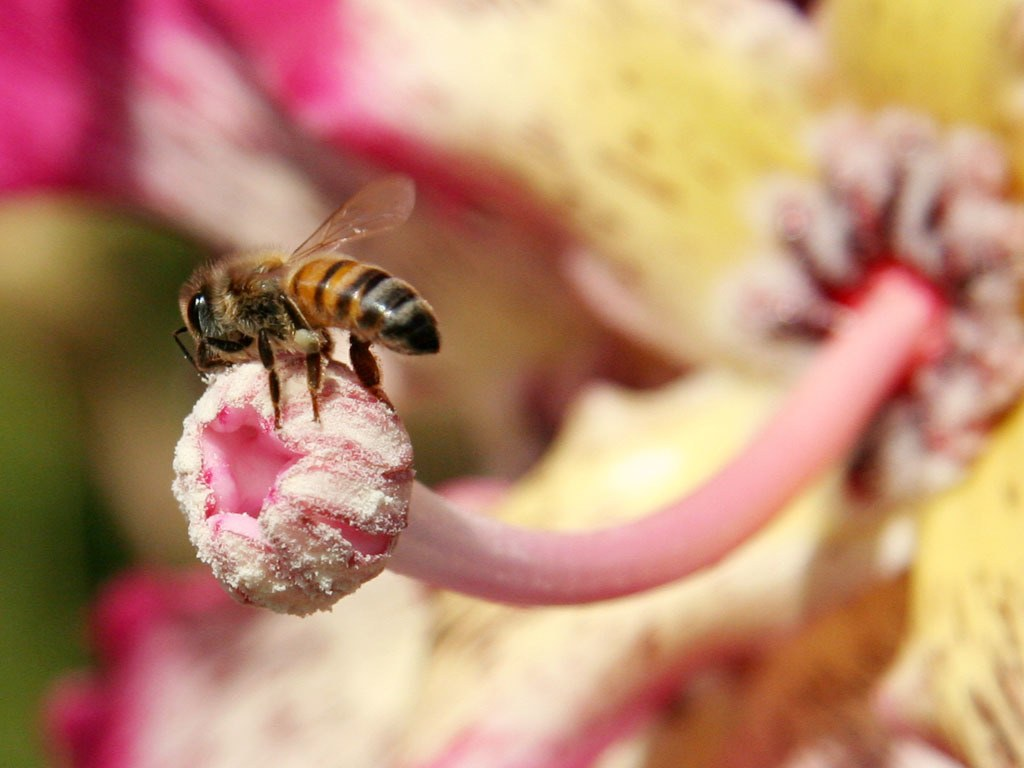bee: (173, 167, 438, 436)
insect: (0, 0, 1023, 767)
